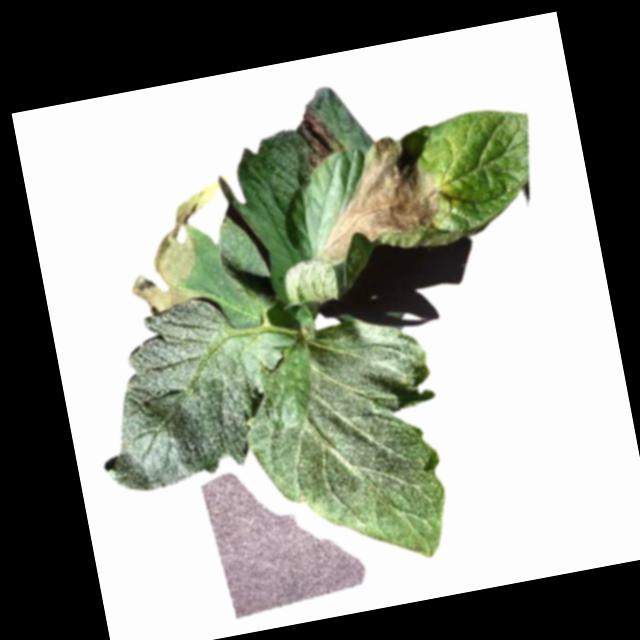Late_blight: (300, 128, 448, 268), (110, 176, 241, 317), (294, 102, 349, 171)
